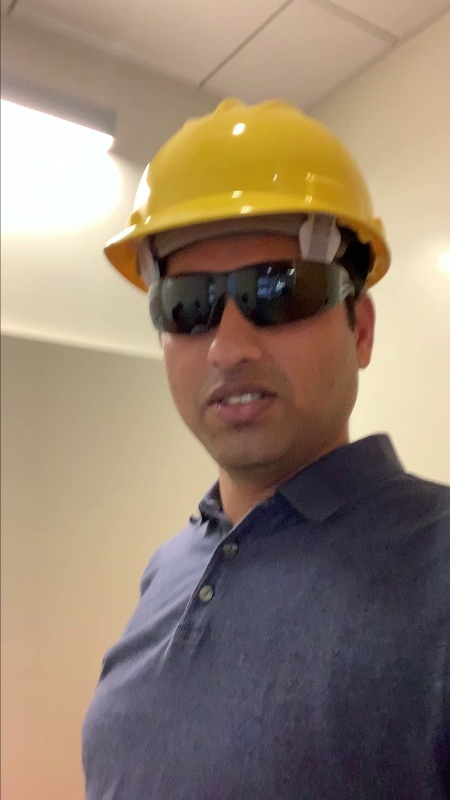glasses: (142, 271, 357, 339)
helmet: (98, 95, 405, 269)
